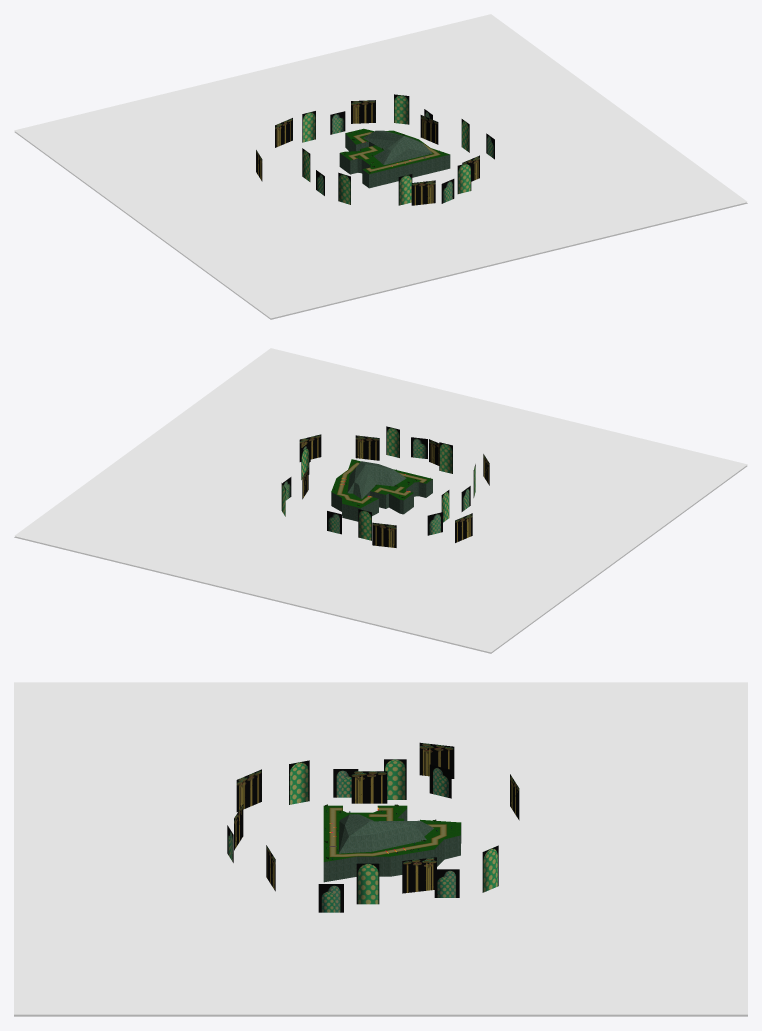
3 views of the same model, one above another, from view 1: azimuth 30°, elevation 25°; view 2: azimuth 150°, elevation 25°; view 3: azimuth 270°, elevation 25° (orthographic). The views are drawn at different scales.
Parts seen in each view (by area): view 1: course-GRP-7945-Clouds, course-GRP-7945-Rockwall, course-GRP-7943-Union2, course-GRP-8243-Union2, course-GRP-7945-Union1, course-GRP-7944-Union2, course-GRP-7945-Offroad1, course-GRP-7945-Road1; view 2: course-GRP-7945-Clouds, course-GRP-7945-Rockwall, course-GRP-8243-Union2, course-GRP-7943-Union2, course-GRP-7945-Union1, course-GRP-7944-Union2, course-GRP-7945-Offroad1, course-GRP-7945-Road1; view 3: course-GRP-7945-Clouds, course-GRP-8243-Union2, course-GRP-7945-Rockwall, course-GRP-7943-Union2, course-GRP-7944-Union2, course-GRP-7945-Union1, course-GRP-7945-Offroad1, course-GRP-7945-Road1.
Boxes of the visible parts, x1=… form: course-GRP-7945-Clouds: x1=14, y1=14, x2=747, y2=318; course-GRP-7945-Rockwall: x1=339, y1=130, x2=450, y2=188; course-GRP-7943-Union2: x1=302, y1=94, x2=471, y2=205; course-GRP-8243-Union2: x1=256, y1=100, x2=479, y2=205; course-GRP-7945-Union1: x1=14, y1=131, x2=747, y2=319; course-GRP-7944-Union2: x1=316, y1=109, x2=494, y2=203; course-GRP-7945-Offroad1: x1=340, y1=128, x2=449, y2=174; course-GRP-7945-Road1: x1=348, y1=132, x2=440, y2=171; course-GRP-7945-Clouds: x1=14, y1=348, x2=747, y2=652; course-GRP-7945-Rockwall: x1=331, y1=461, x2=432, y2=521; course-GRP-8243-Union2: x1=299, y1=434, x2=489, y2=547; course-GRP-7943-Union2: x1=281, y1=426, x2=475, y2=540; course-GRP-7945-Union1: x1=14, y1=465, x2=747, y2=653; course-GRP-7944-Union2: x1=282, y1=437, x2=470, y2=535; course-GRP-7945-Offroad1: x1=331, y1=459, x2=432, y2=507; course-GRP-7945-Road1: x1=336, y1=462, x2=427, y2=503; course-GRP-7945-Clouds: x1=14, y1=682, x2=747, y2=1014; course-GRP-8243-Union2: x1=234, y1=742, x2=519, y2=893; course-GRP-7945-Rockwall: x1=323, y1=809, x2=461, y2=882; course-GRP-7943-Union2: x1=289, y1=759, x2=498, y2=904; course-GRP-7944-Union2: x1=227, y1=764, x2=459, y2=912; course-GRP-7945-Union1: x1=14, y1=1014, x2=747, y2=1016; course-GRP-7945-Offroad1: x1=323, y1=805, x2=461, y2=861; course-GRP-7945-Road1: x1=329, y1=807, x2=447, y2=857.
Bounding box in the file's own units: 328458 × 19726 × 306331.
Materials: 8 (8 with a texture image).
